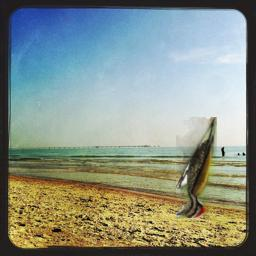Woodpecker: (176, 117, 217, 218)
